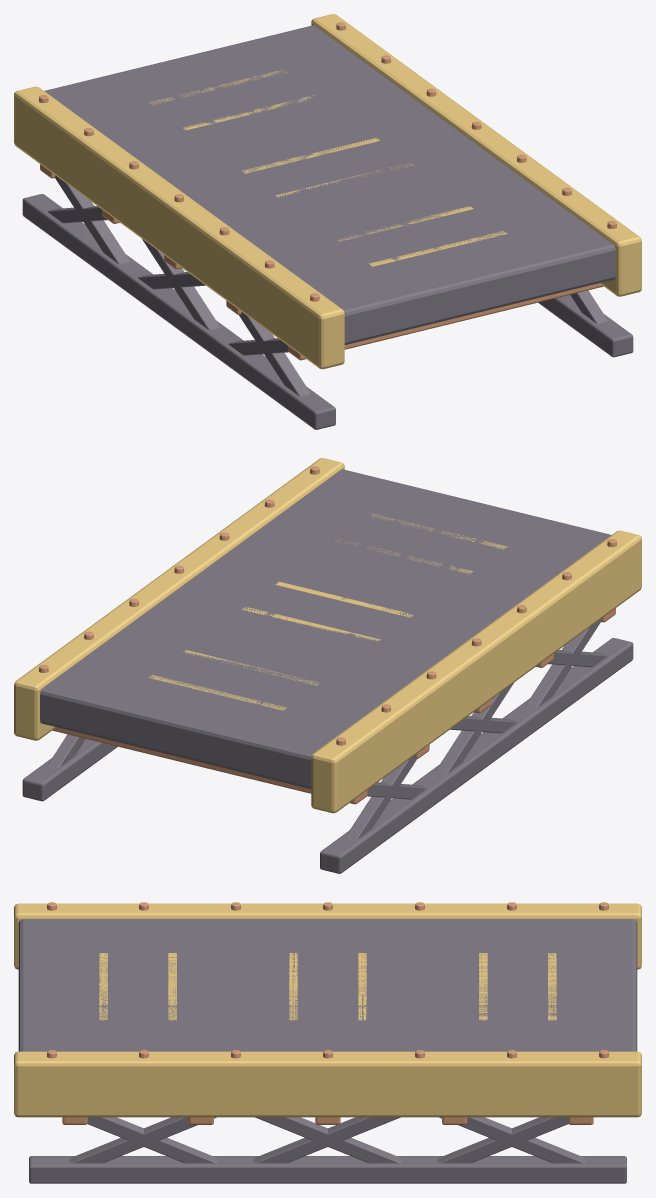
File: foundry_catwalk.glb
The picture shows the model from 3 angles, top to bottom: view 1: azimuth 30°, elevation 25°; view 2: azimuth 150°, elevation 25°; view 3: azimuth 270°, elevation 25°; orthographic projection.
Visible parts, largest first — view 1: Deck, GrateCross_-1.65_-0.3, CrossRib-1.1; view 2: Deck, GrateCross_-1.65_-0.3, CrossRib-1.1; view 3: Deck, GrateCross_-1.65_-0.3, CrossRib-1.1.
Part boxes in pixels (box(x1,y1,x2,y2)): Deck: box(22, 25, 633, 429); GrateCross_-1.65_-0.3: box(14, 14, 641, 369); CrossRib-1.1: box(39, 22, 616, 360); Deck: box(22, 469, 633, 873); GrateCross_-1.65_-0.3: box(14, 458, 641, 813); CrossRib-1.1: box(39, 466, 616, 804); Deck: box(18, 919, 637, 1183); GrateCross_-1.65_-0.3: box(14, 903, 641, 1117); CrossRib-1.1: box(47, 902, 608, 1124).
Bounding box in the file's own units: 3.3 × 1.22 × 5.46.
